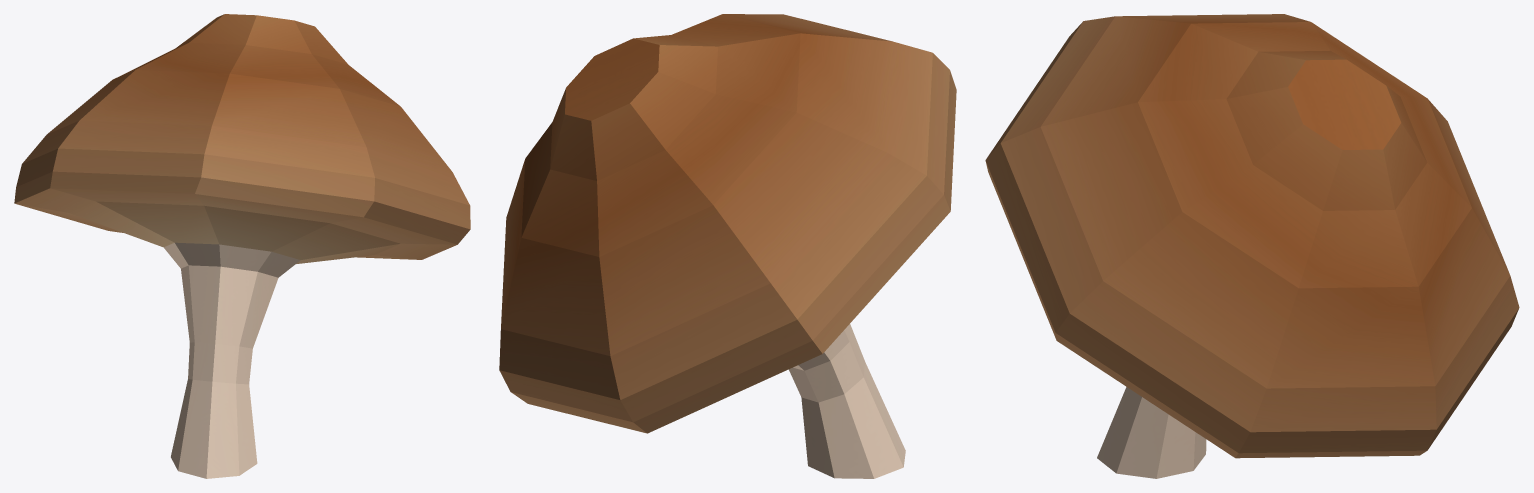
Rendered from brownShroom4.fbx.
3 renders of one model, left to right at view 1: azimuth 30°, elevation 25°; view 2: azimuth 150°, elevation 25°; view 3: azimuth 270°, elevation 25°, orthographic. The views are drawn at different scales.
Parts seen in each view (by area): view 1: lilshroom8; view 2: lilshroom8; view 3: lilshroom8.
Part boxes in pixels (box(x1,y1,x2,y2)): lilshroom8: box(14, 14, 470, 478); lilshroom8: box(499, 14, 956, 478); lilshroom8: box(985, 14, 1519, 478).
Bounding box in the file's own units: 396 × 370 × 390.
